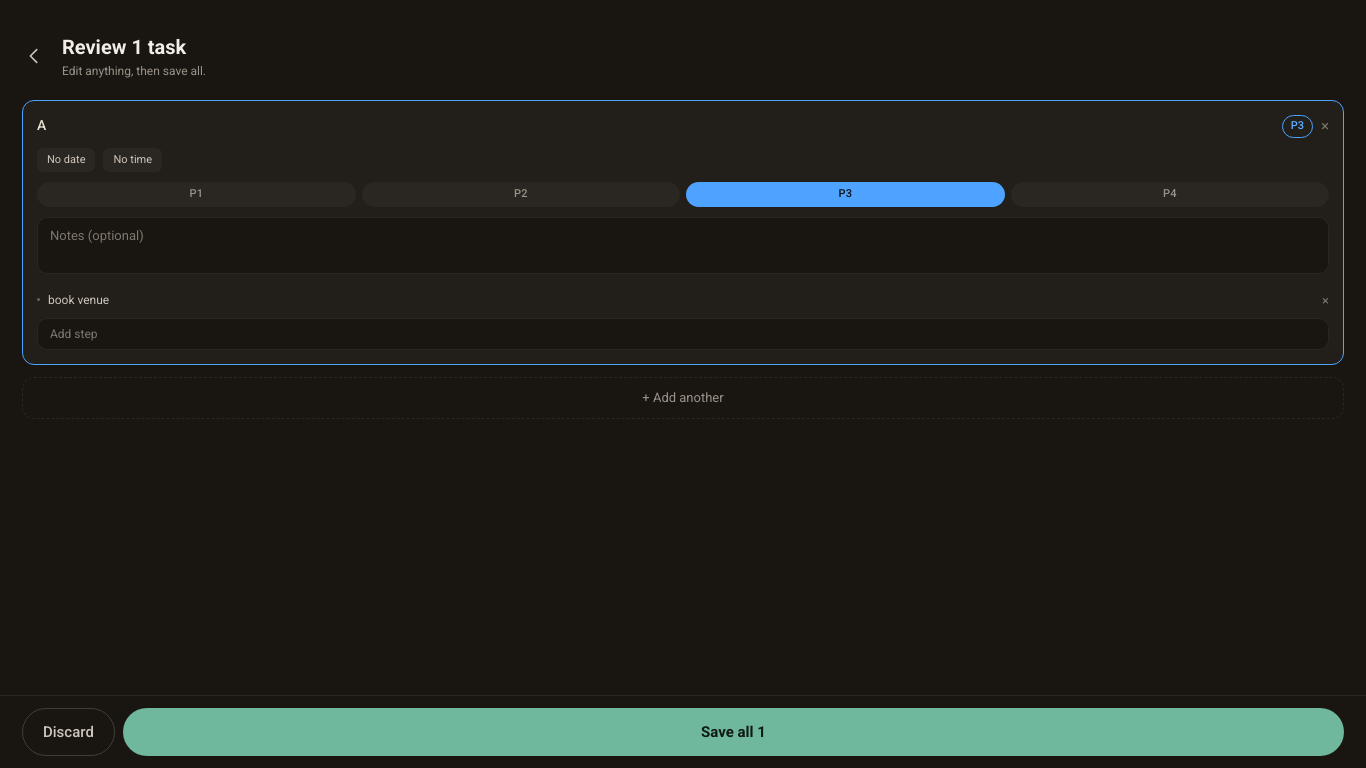
Test: ConfirmSheet › renders parsed steps and can add a step
Check: the text "book venue" is shown, box [48,292,109,306]
Step 1. Type "send invites" into the field named "Add step to task 1" → (683, 334), box [37,318,1329,350]
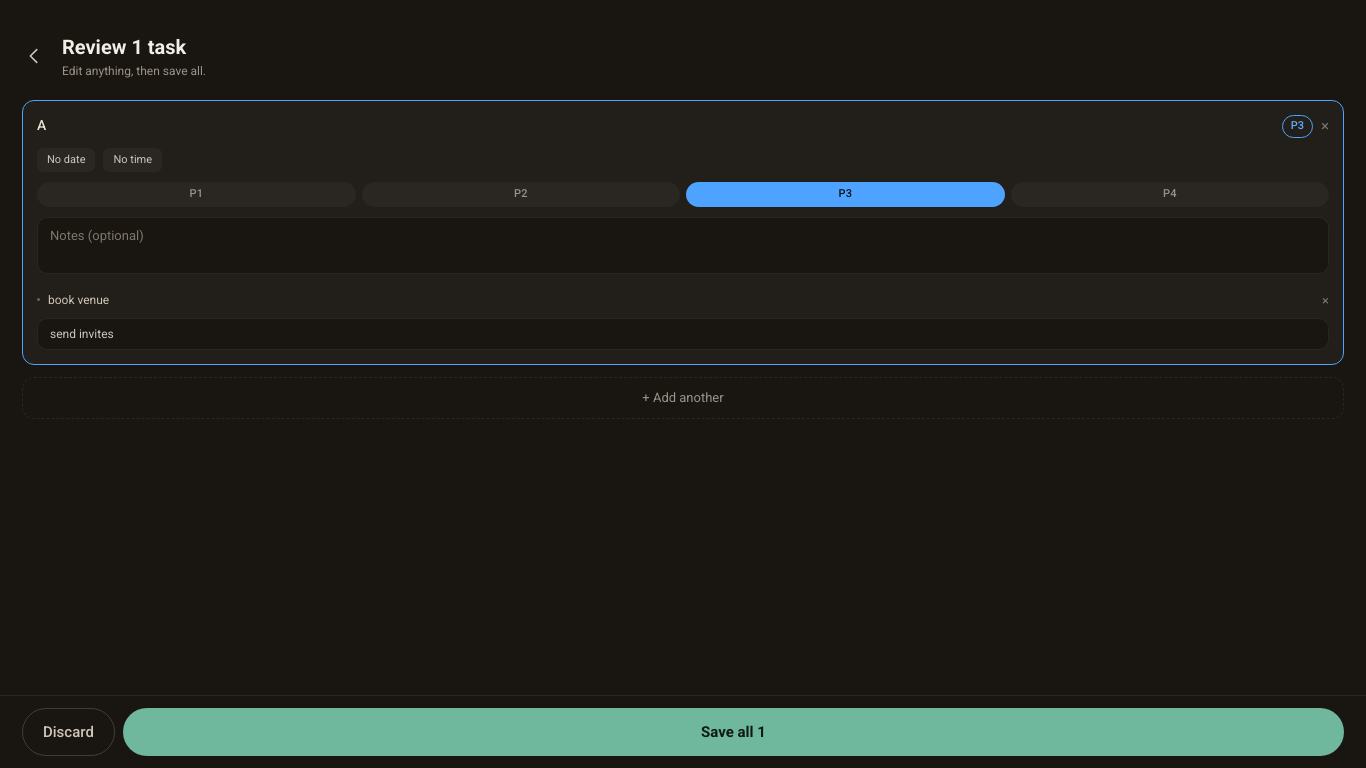
Step 2. Press Enter in the field named "Add step to task 1", box [37,318,1329,350]
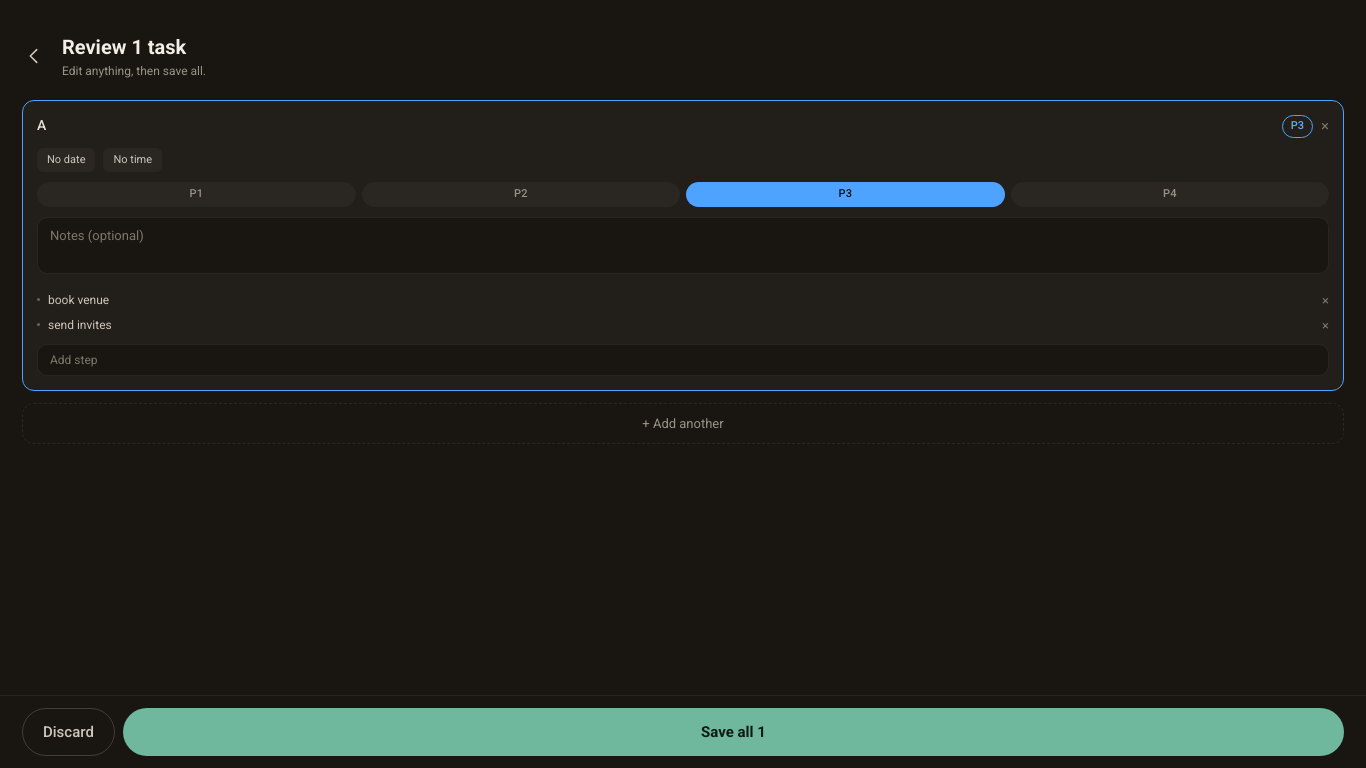
Check: the text "send invites" is shown, box [48,318,112,332]
